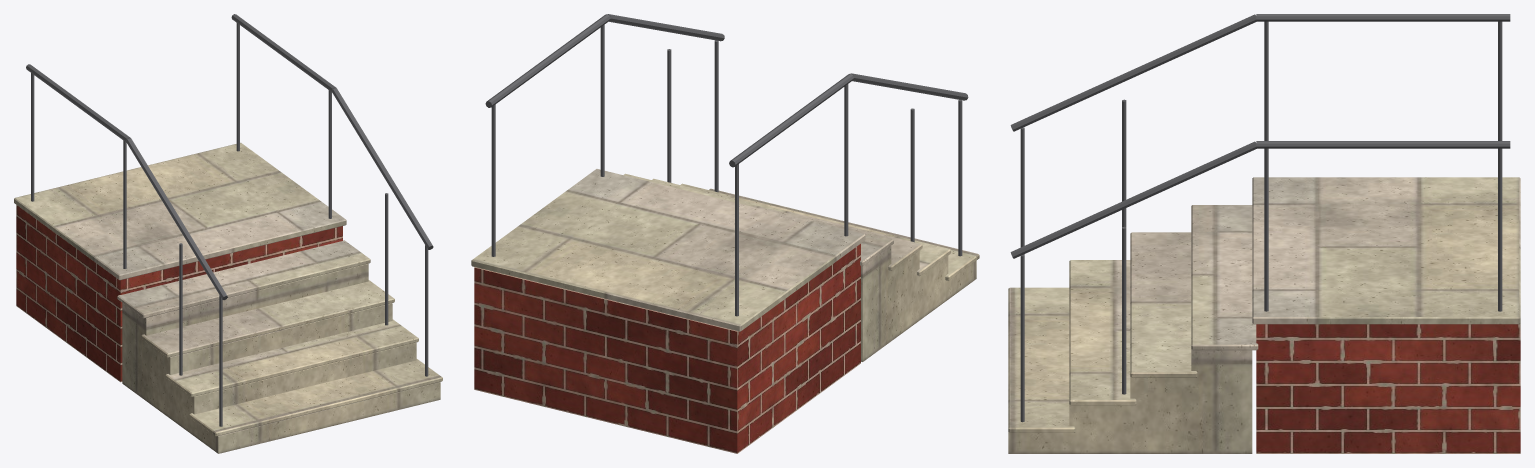
File: back_stoop.glb
The picture shows the model from 3 angles, left to right: view 1: azimuth 30°, elevation 25°; view 2: azimuth 150°, elevation 25°; view 3: azimuth 270°, elevation 25°; orthographic projection. The views are drawn at different scales.
Parts seen in each view (by area): view 1: back_stoop_stone_t, back_stoop_brick, back_stoop_iron; view 2: back_stoop_brick, back_stoop_stone_t, back_stoop_iron; view 3: back_stoop_stone_t, back_stoop_brick, back_stoop_iron.
Boxes of the visible parts, <box> form: back_stoop_stone_t: <box>14,142,442,453</box>; back_stoop_brick: <box>16,205,342,382</box>; back_stoop_iron: <box>26,14,433,426</box>; back_stoop_brick: <box>474,244,860,453</box>; back_stoop_stone_t: <box>471,169,979,361</box>; back_stoop_iron: <box>485,14,968,316</box>; back_stoop_stone_t: <box>1008,177,1520,453</box>; back_stoop_brick: <box>1256,323,1520,453</box>; back_stoop_iron: <box>1010,14,1510,422</box>.
Size of the model in its own units: 1.64 by 1.67 by 2.52.
Materials: 3 (2 with a texture image).
